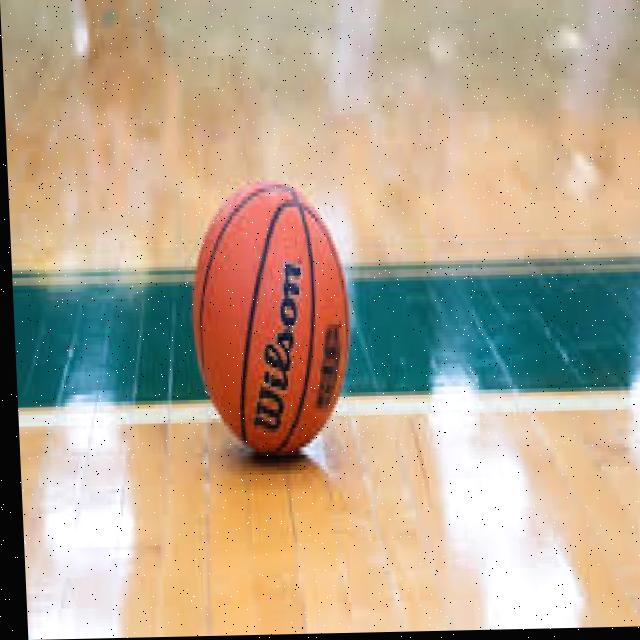Basketball: (186, 179, 356, 459)
